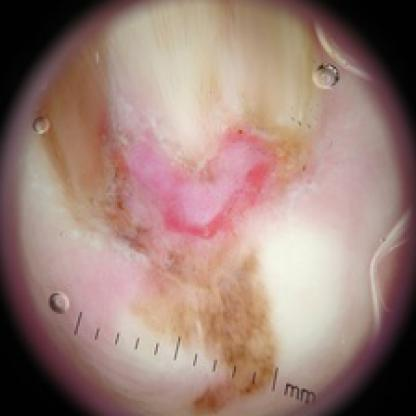malignant: (35, 50, 355, 318)
